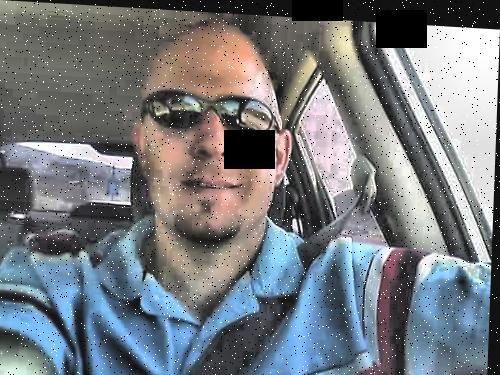seatbelt: (183, 173, 386, 374)
